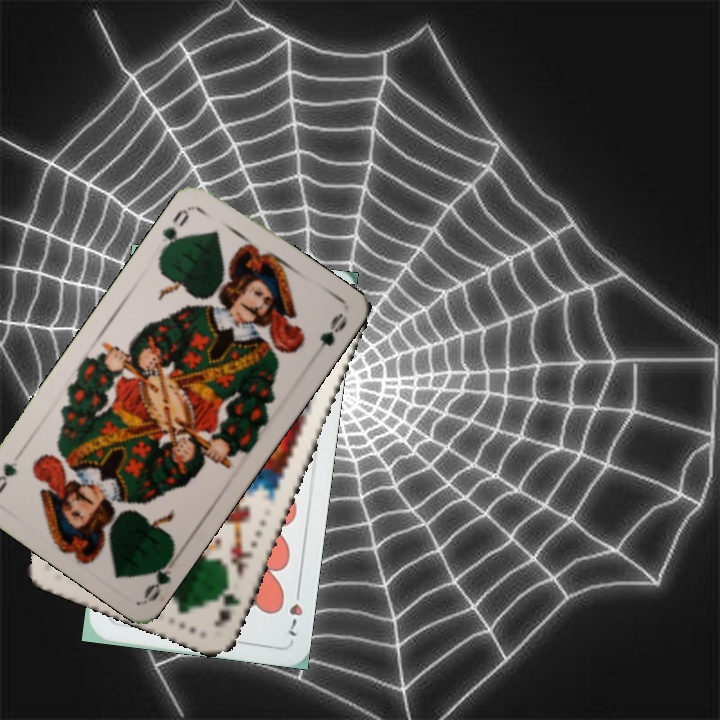GK: (209, 576, 244, 630)
GO: (140, 546, 183, 604), (157, 203, 196, 255)
H7: (285, 582, 306, 639)
